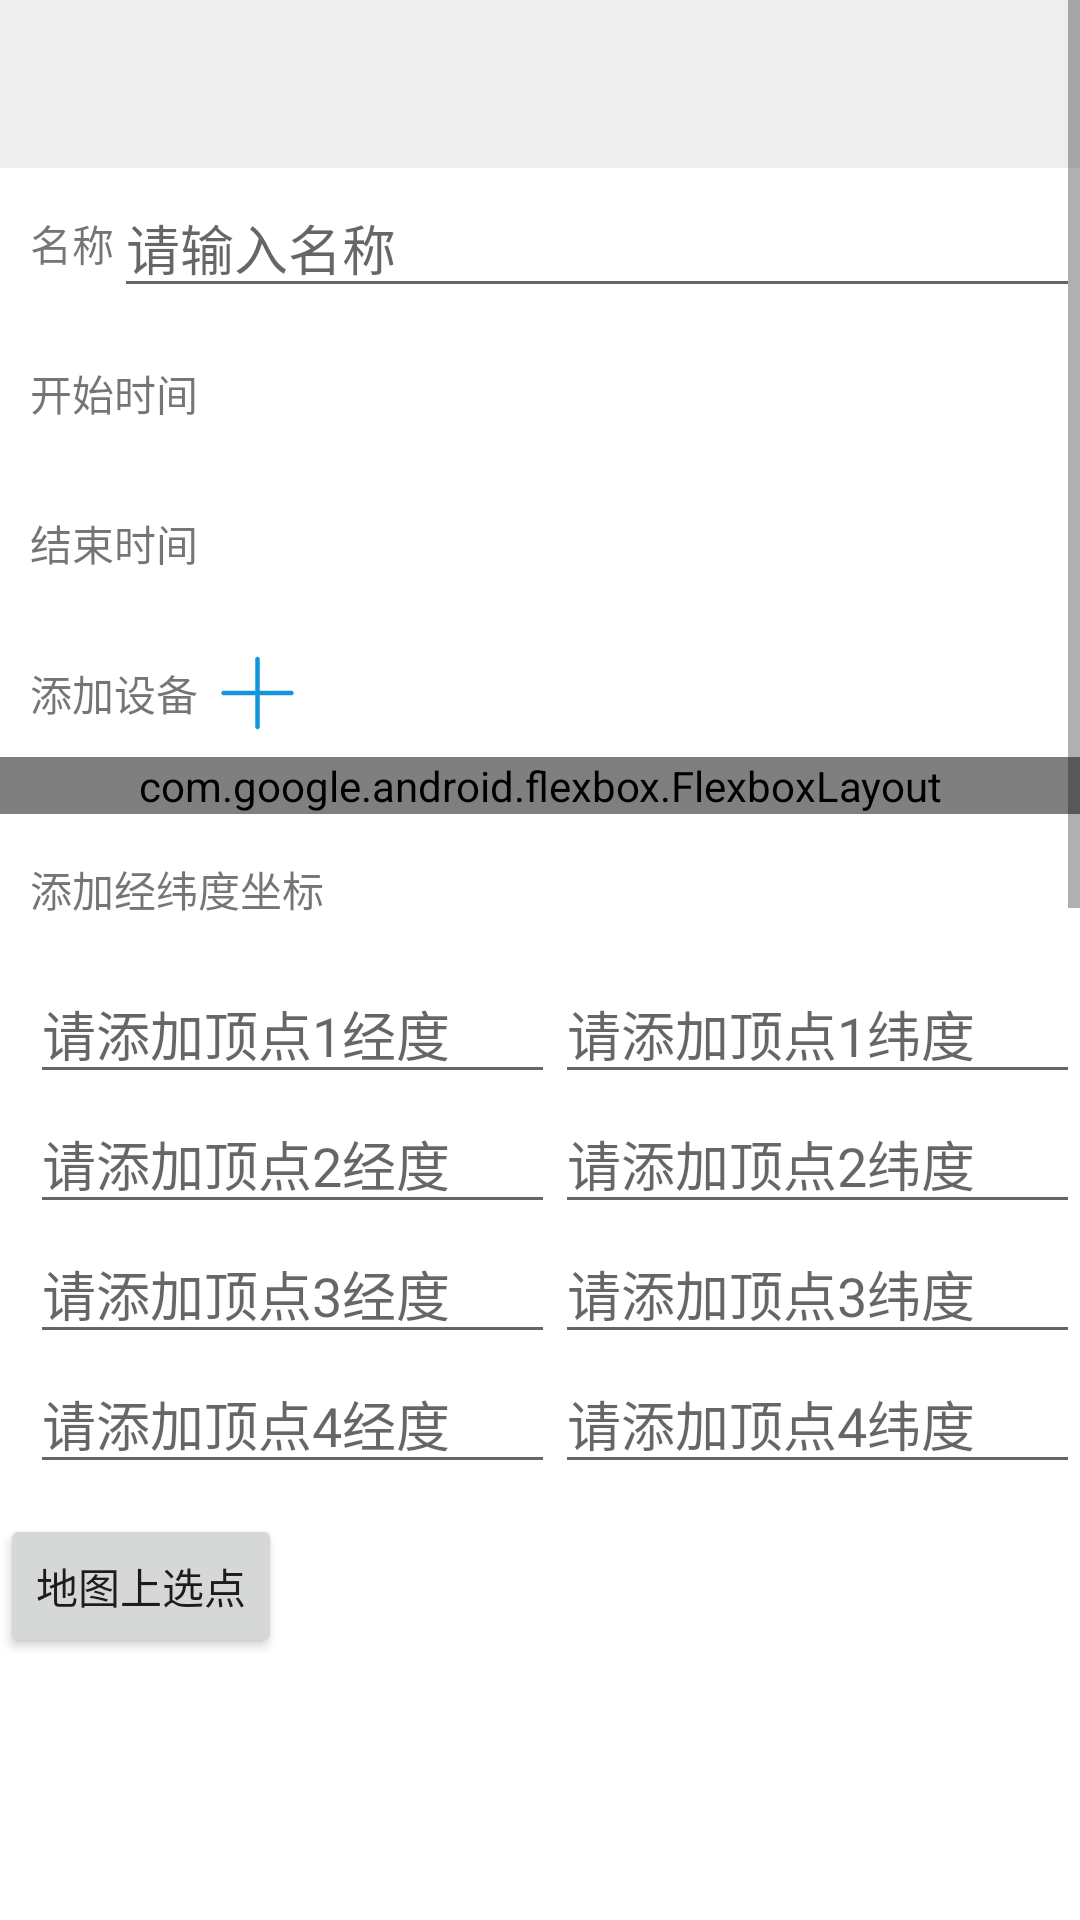

Screen size 1080px×1920px. Icon name, then its box in pixels as (x1, y1, x2, y2):
add: (221, 656, 294, 730)
